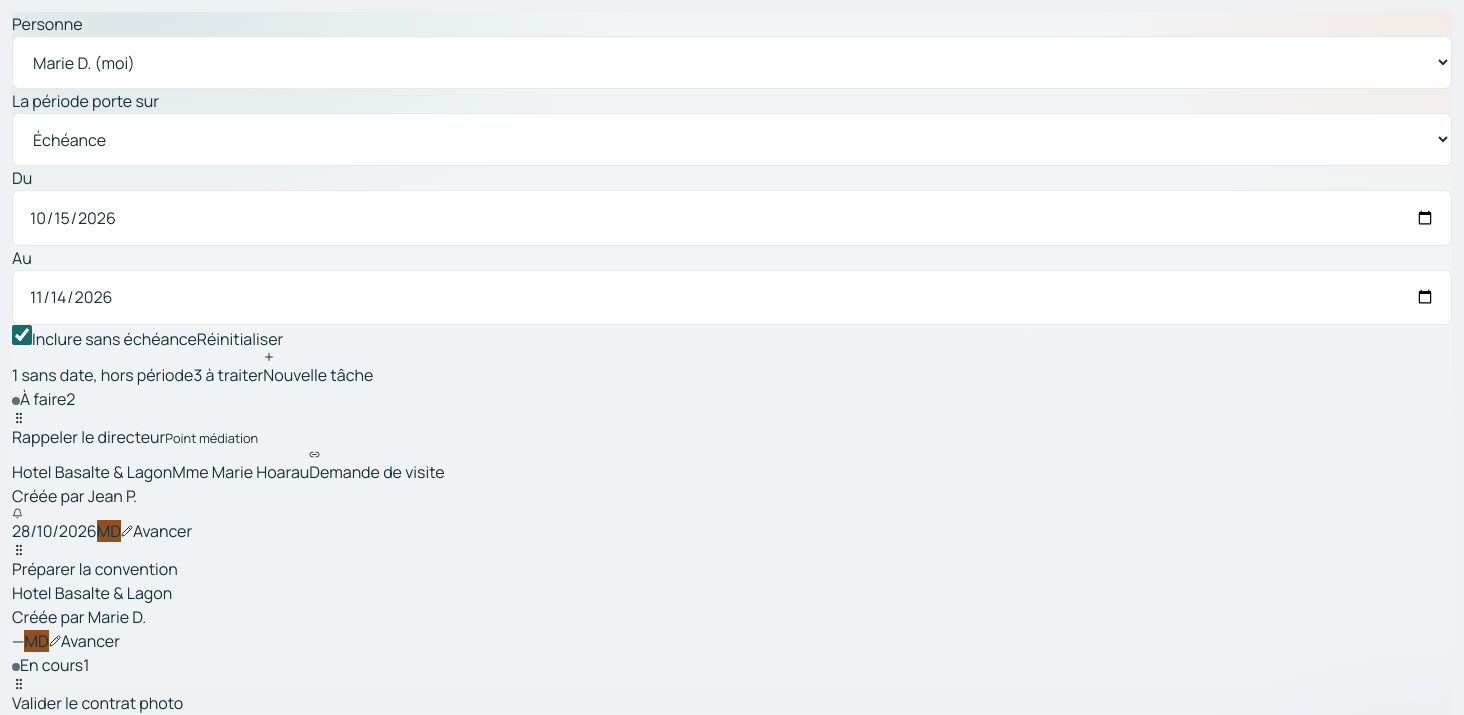
Test: CrmTaches (§61 — kanban Tâches & relances) › 16w — fenêtre d’échéance › une échéance hors fenêtre est masquée, et réapparaît quand on élargit
Expected: the text "Rappeler le directeur" is shown, [12,426,165,448]
Expected: the text "Tâche lointaine" is not shown
Clear the date field named "Échéance jusqu’au": (732, 297) [12,270,1452,325]
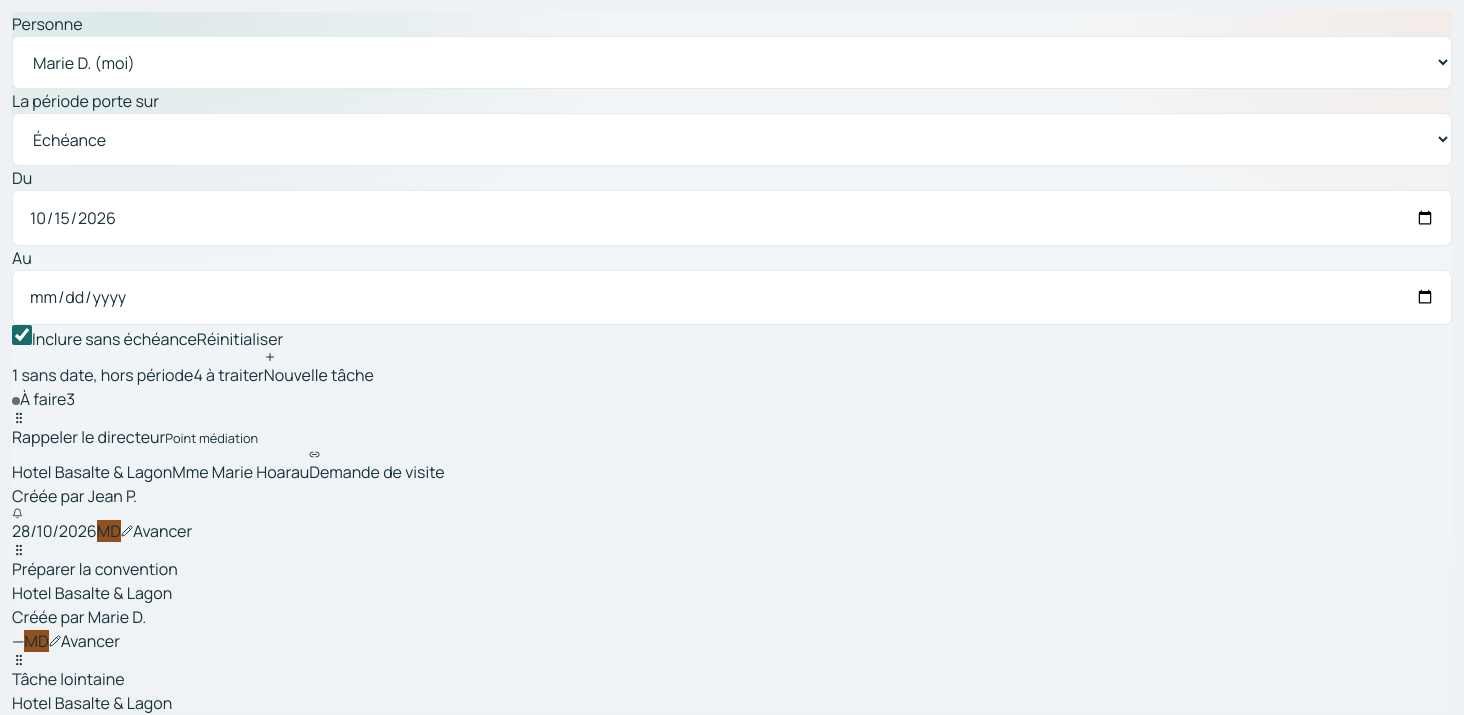
Expected: the text "Tâche lointaine" is shown, [12,668,124,690]
